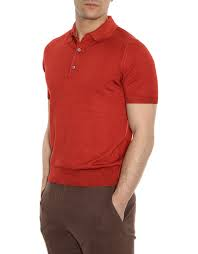C_polo shirt: (35, 19, 166, 178)
